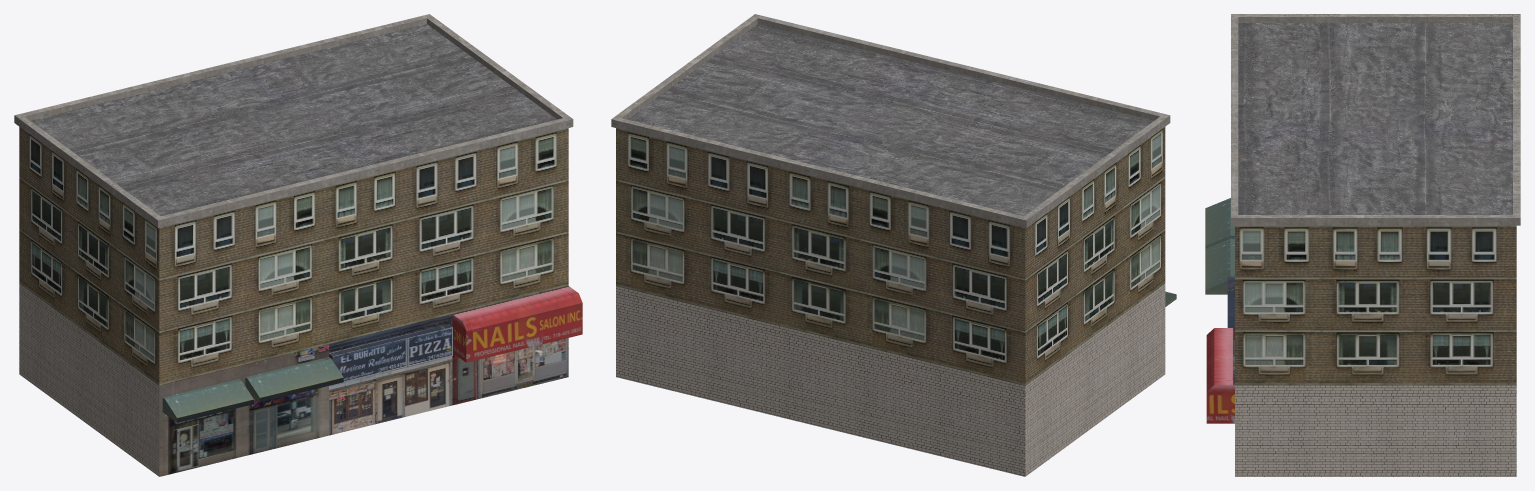
The model's file is building_08.glb.
3 renders of one model, left to right at view 1: azimuth 30°, elevation 25°; view 2: azimuth 150°, elevation 25°; view 3: azimuth 270°, elevation 25°, orthographic.
Parts seen in each view (by area): view 1: building_08_mesh; view 2: building_08_mesh; view 3: building_08_mesh.
Boxes of the visible parts, x1=… form: building_08_mesh: x1=14, y1=14, x2=582, y2=476; building_08_mesh: x1=611, y1=14, x2=1176, y2=476; building_08_mesh: x1=1205, y1=14, x2=1520, y2=476.
Size of the model in its own units: 24.88 by 14.8 by 16.24.
7 materials, 7 textured.
